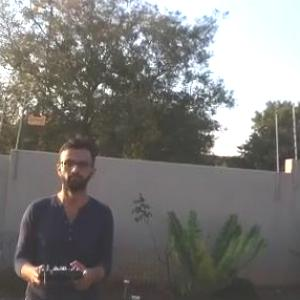follow: (5, 137, 116, 299)
